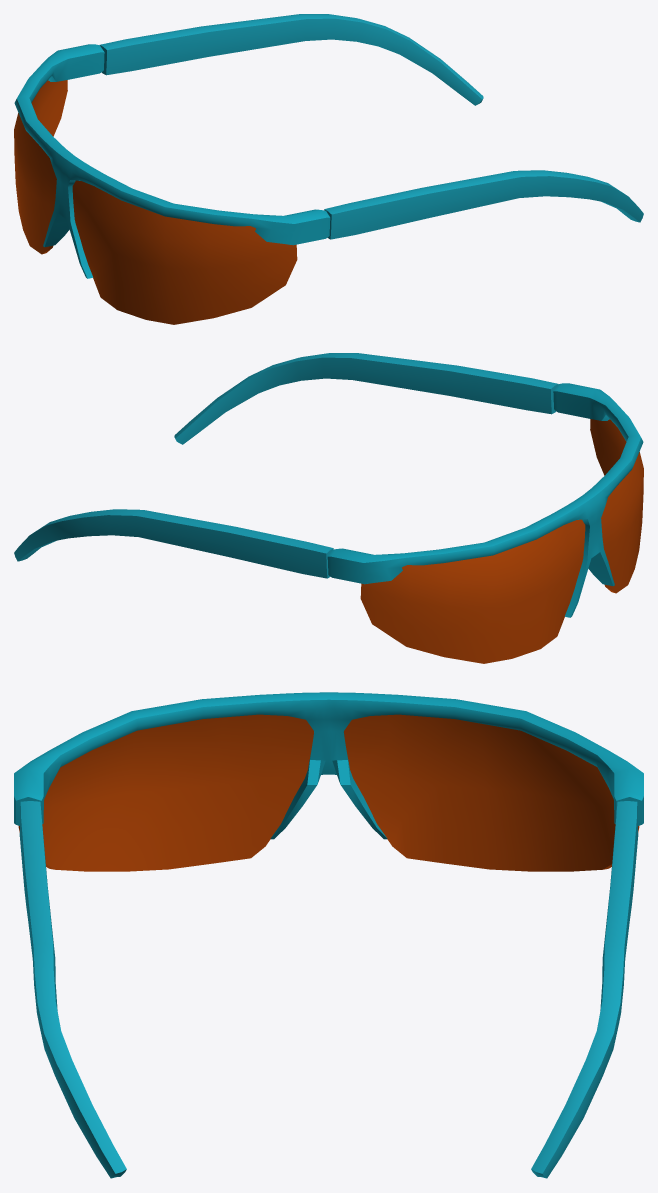
3 views of the same model, one above another, from view 1: azimuth 30°, elevation 25°; view 2: azimuth 150°, elevation 25°; view 3: azimuth 270°, elevation 25° (orthographic). The views are drawn at different scales.
Parts seen in each view (by area): view 1: ppe_goggles; view 2: ppe_goggles; view 3: ppe_goggles.
Part boxes in pixels (box(x1,y1,x2,y2)): ppe_goggles: box(14, 14, 643, 324); ppe_goggles: box(14, 353, 643, 663); ppe_goggles: box(14, 692, 643, 1178).
Bounding box in the file's own units: 0.1663 × 0.04 × 0.1358.
